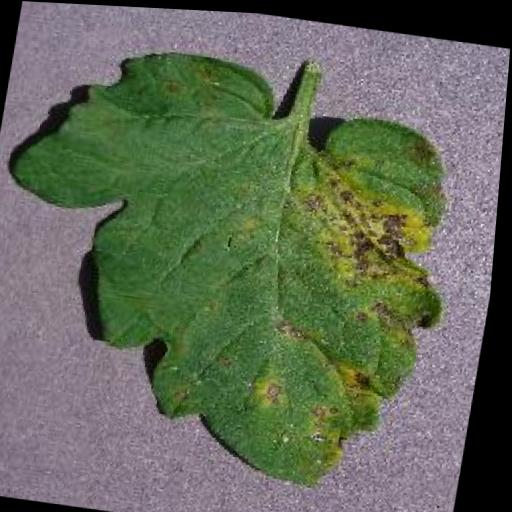Septoria: (0, 34, 479, 498)
